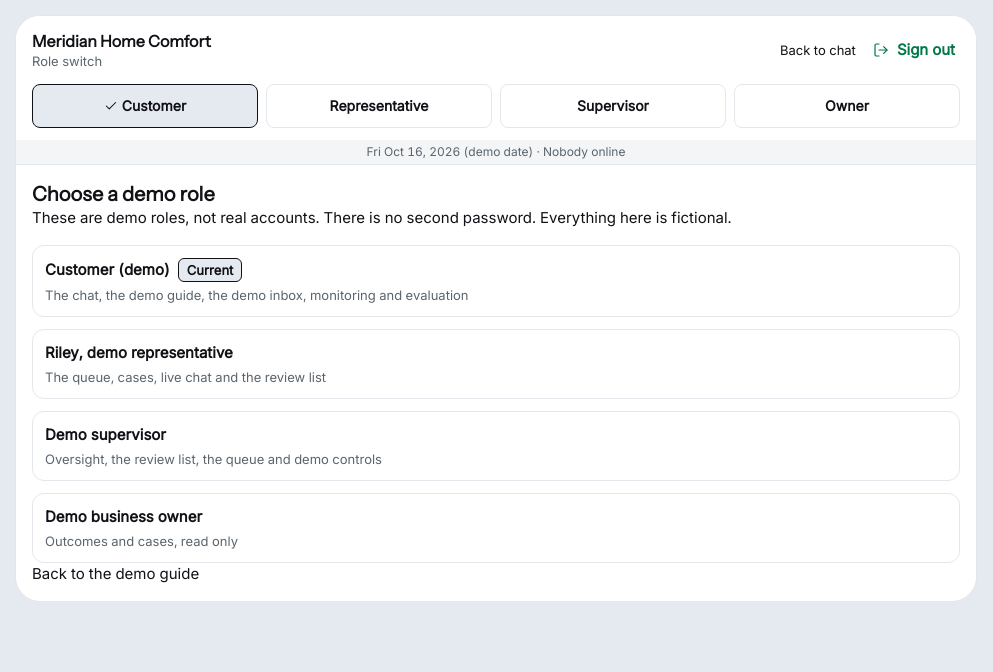
it: Scr04 role page › switch error shows Couldn't switch role. Try again. and keeps the current role marked
Click the button "Demo supervisor" at (105, 434), box [32, 411, 960, 481]
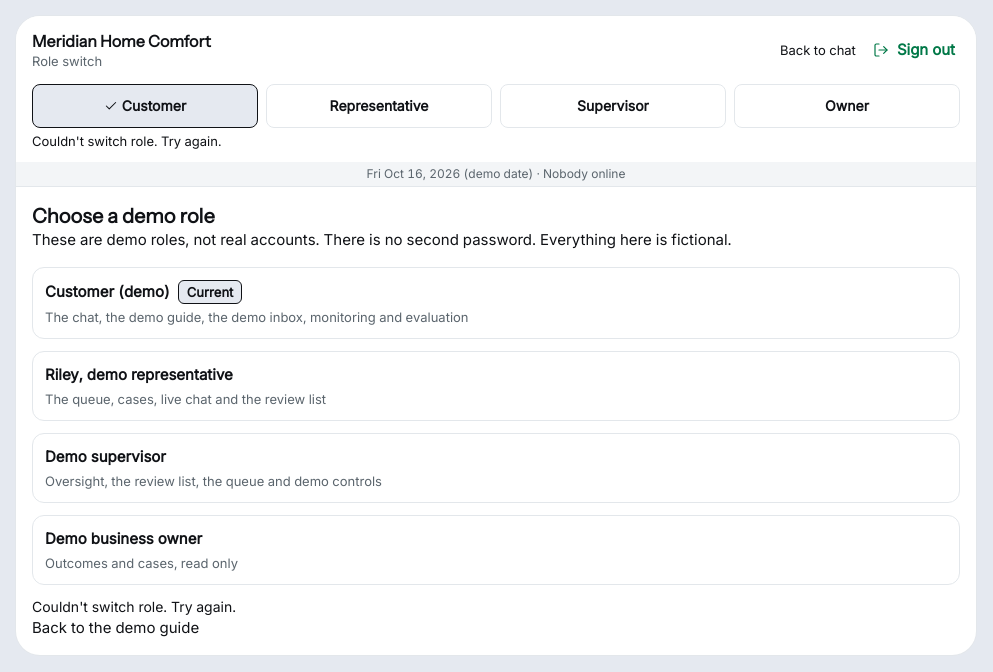
Expected: the text "Couldn't switch role. Try again." is shown, [32, 133, 221, 149]
